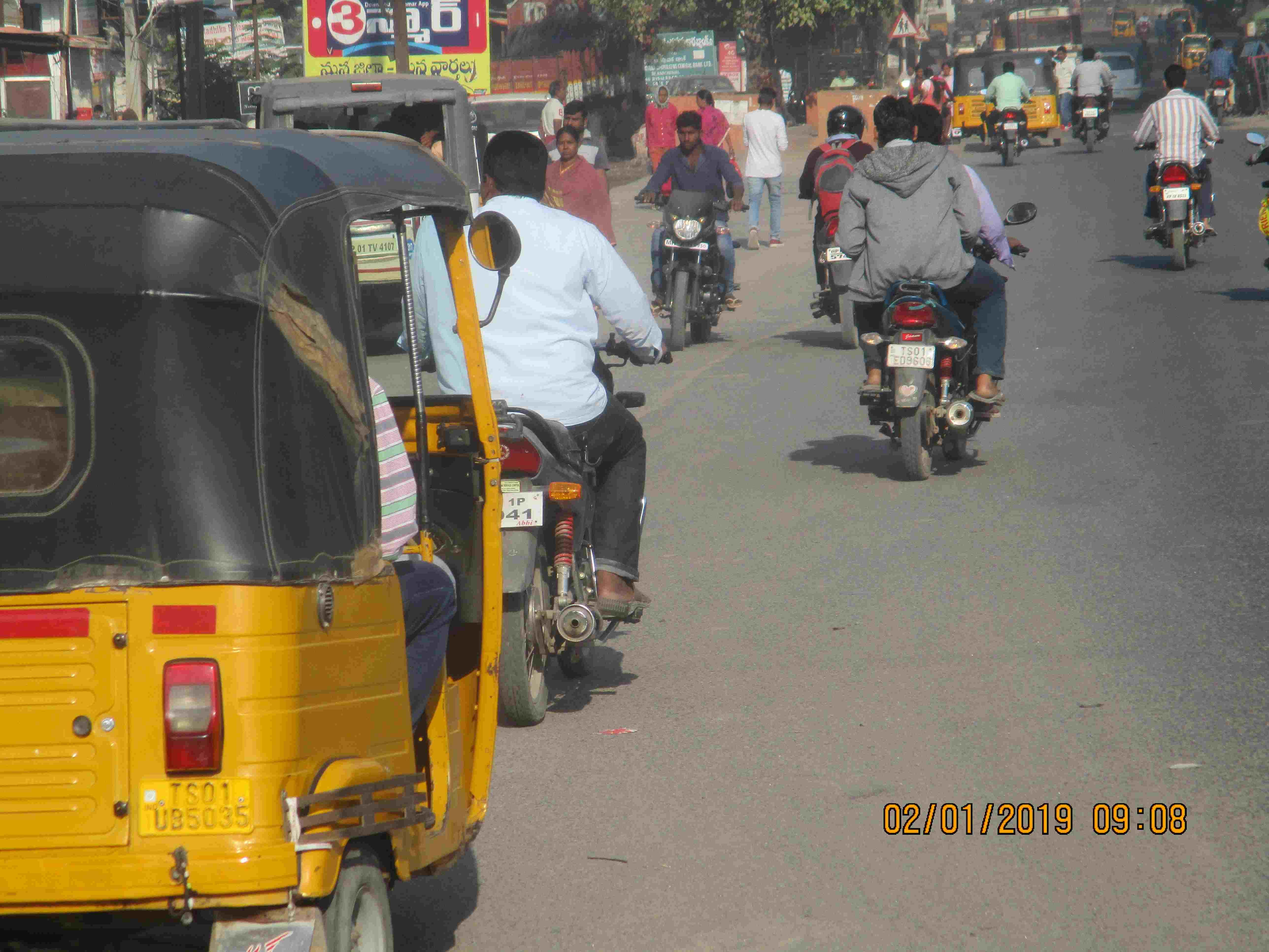plate: (886, 340, 940, 373), (1160, 185, 1198, 202)
